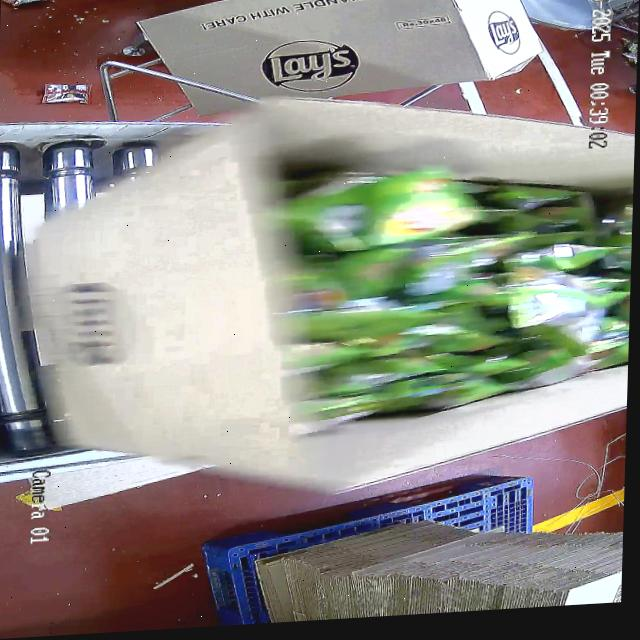YOGURT_HERB: (268, 141, 635, 426)
